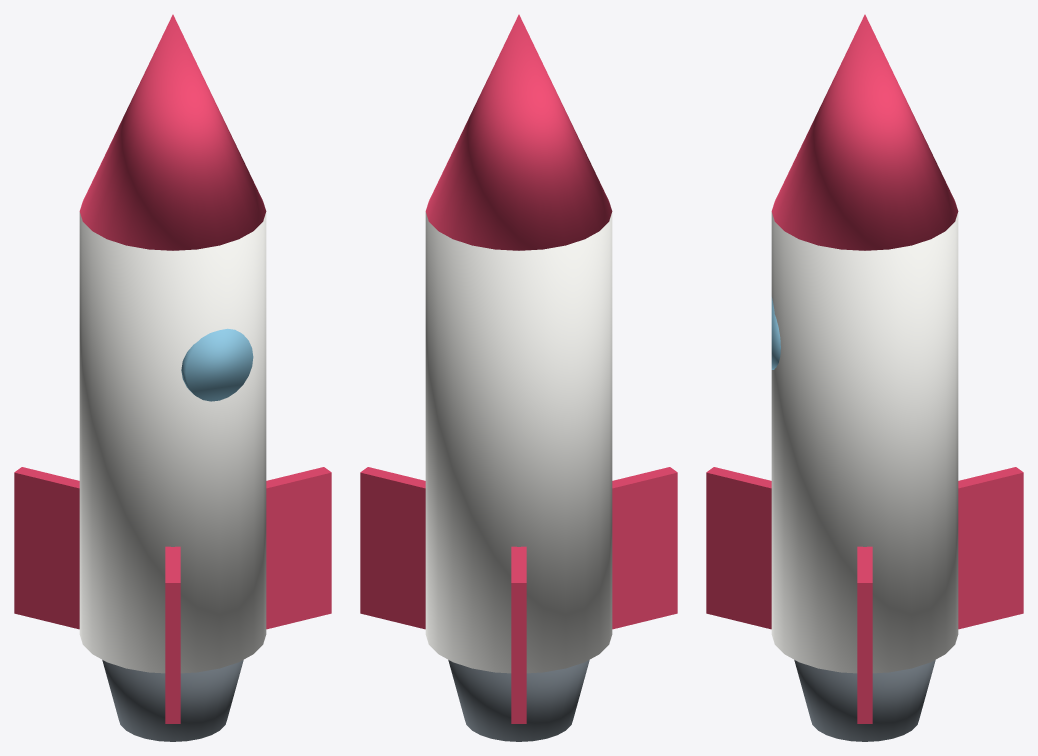
File: rocket.glb
3 views of the same model, side by side, from view 1: azimuth 30°, elevation 25°; view 2: azimuth 150°, elevation 25°; view 3: azimuth 270°, elevation 25° (orthographic).
Parts seen in each view (by area): view 1: rocket; view 2: rocket; view 3: rocket.
Boxes of the visible parts, x1=… form: rocket: x1=14, y1=14, x2=331, y2=741; rocket: x1=360, y1=14, x2=677, y2=741; rocket: x1=706, y1=14, x2=1023, y2=741.
Size of the model in its own units: 0.3537 by 1 by 0.4084.
